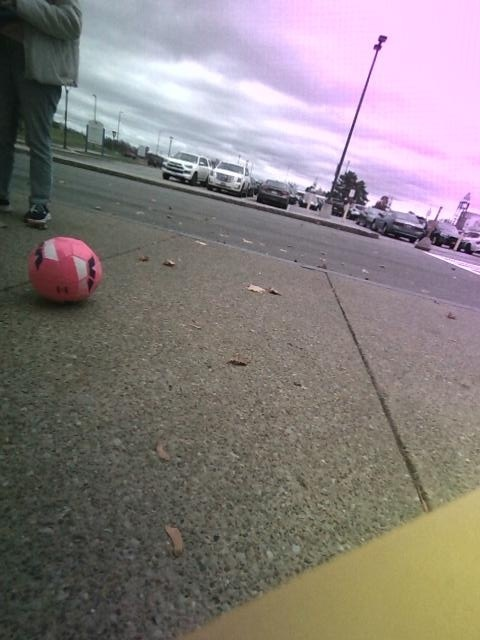ball: (29, 236, 102, 302)
